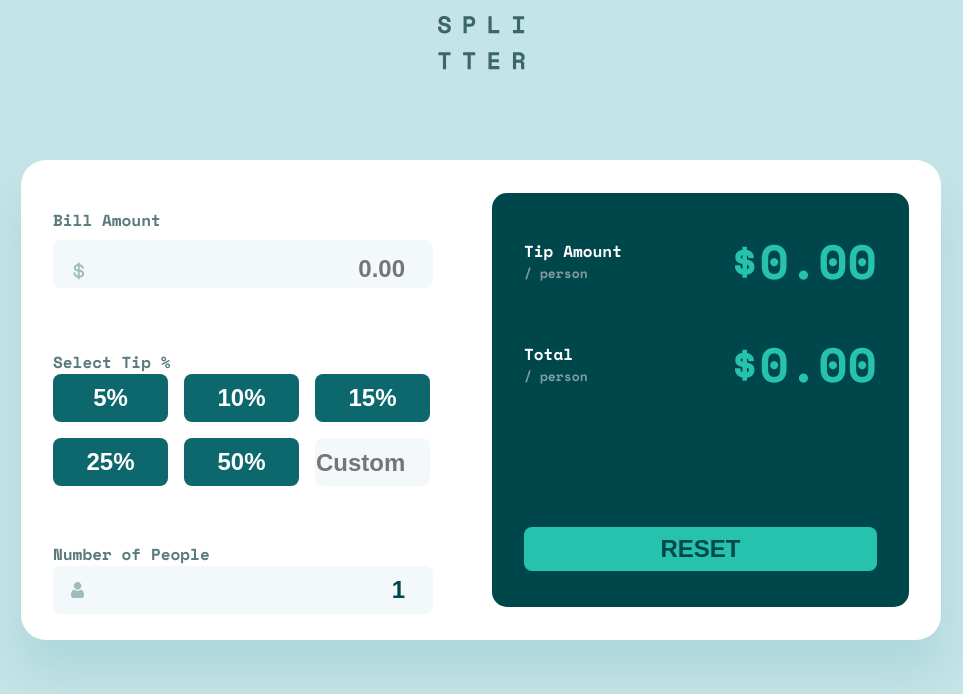
Scenario: Tip Calculator App › tip gomb választása számol, és selected osztályt kap
The width and height of the screenshot is (963, 694).
Type "100" into the number field labelled "Bill Amount" at (243, 264), box [53,240,433,288]
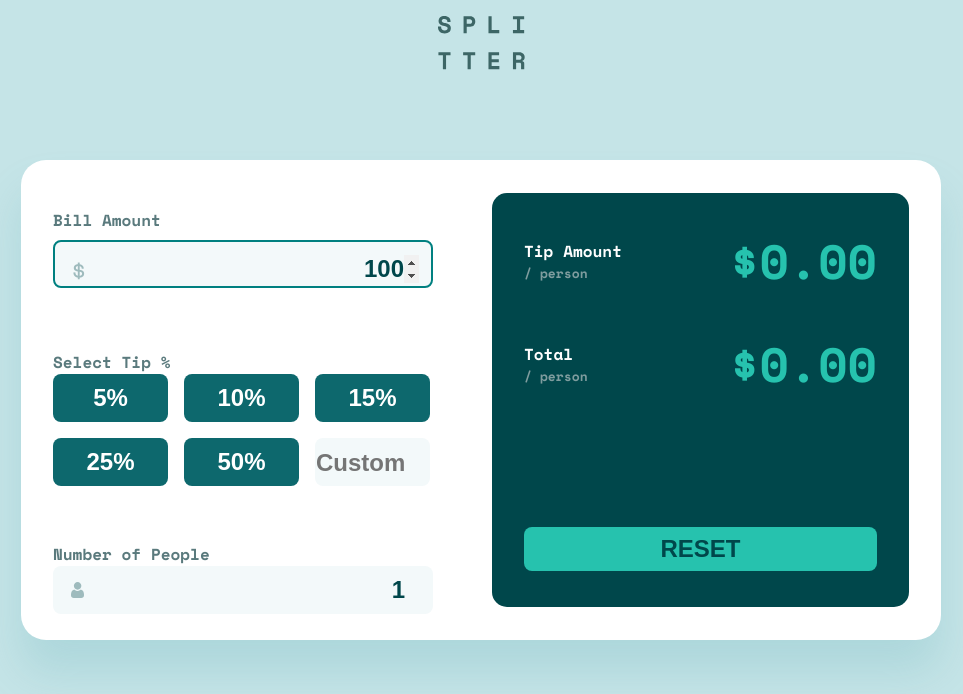
Type "2" into the number field labelled "Number of People" at (243, 590), box [53,566,433,614]
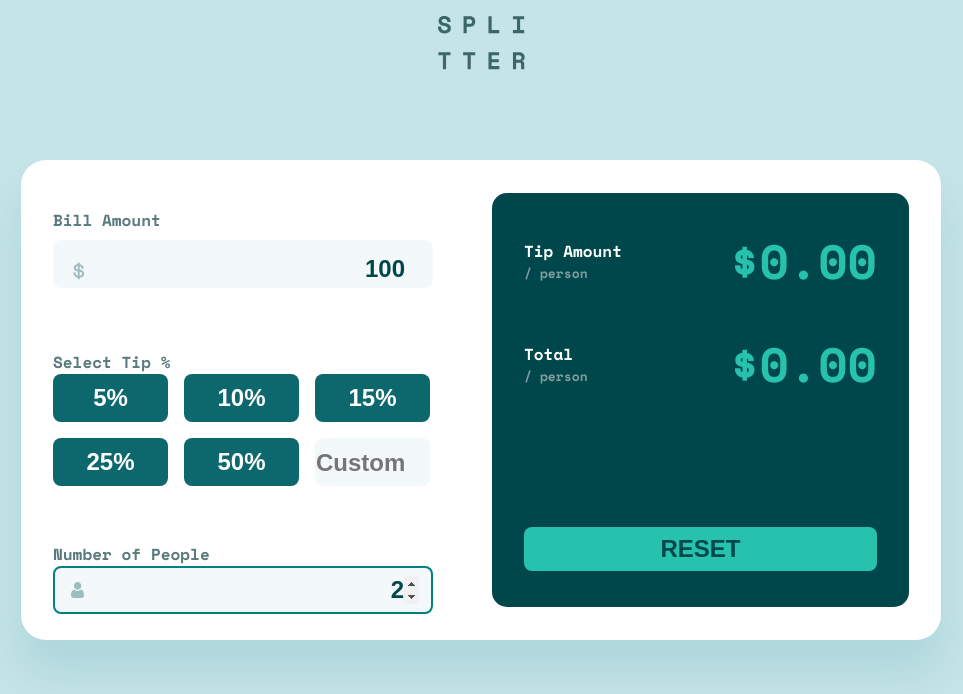
Click the button "10%" at (242, 398), box [184,374,299,422]
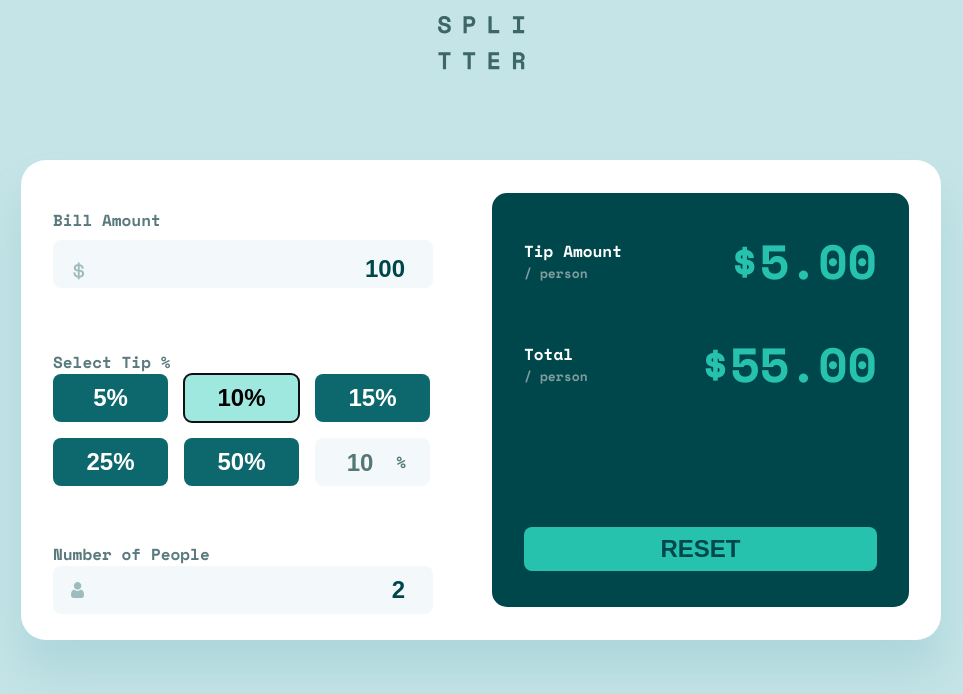
expect the text "$5.00" is shown: met, box [730,225,877,296]
expect the text "$55.00" is shown: met, box [701,328,877,399]
